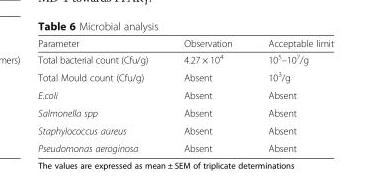table: (37, 37, 333, 153)
table column: (37, 37, 165, 153), (165, 37, 249, 153), (249, 37, 333, 153)
table column header: (37, 37, 333, 50)
table row: (37, 67, 333, 86), (37, 103, 333, 121), (37, 121, 333, 139), (37, 50, 333, 67), (37, 86, 333, 103), (37, 139, 333, 153), (37, 37, 333, 50)
